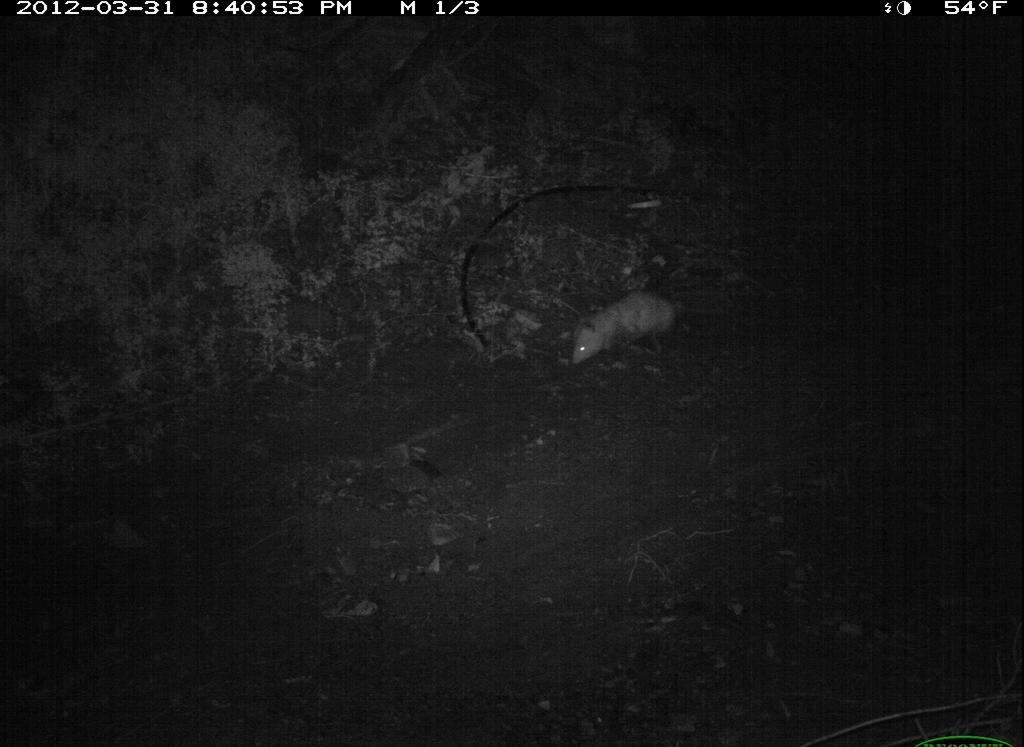opossum: (555, 282, 740, 378)
